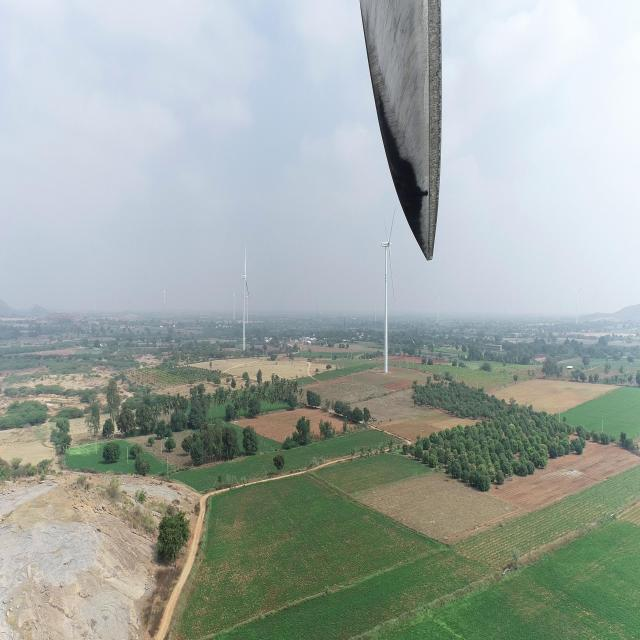Dirt: (359, 0, 441, 260)
Oil LEAKAGE: (372, 90, 431, 252)
Pin Hole: (419, 188, 433, 200)
